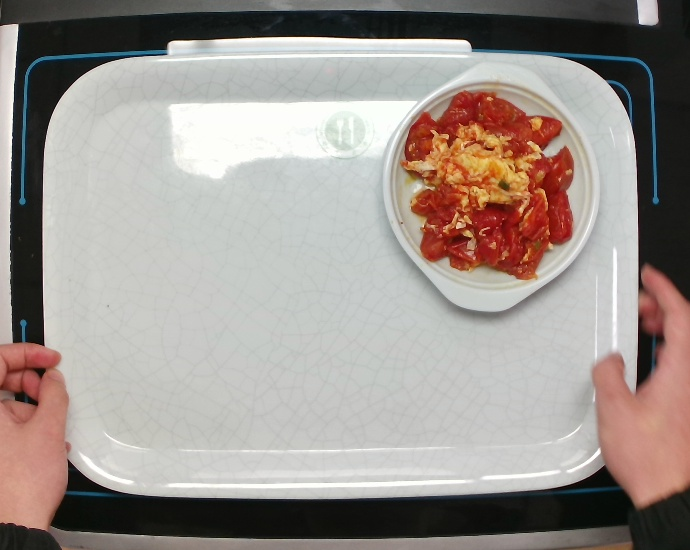JYsf-Shuang_Er_Pan: (381, 55, 607, 319)
